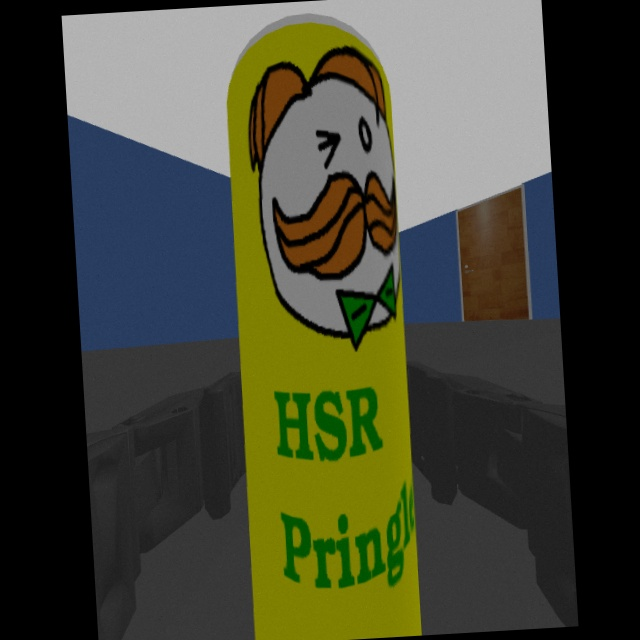chipsdose_gelb: (227, 13, 424, 639)
